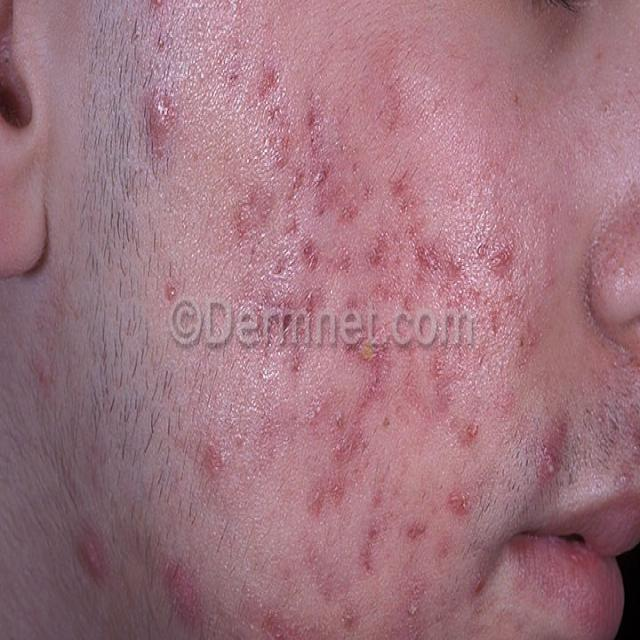acne: (149, 48, 639, 480), (68, 474, 486, 640)
